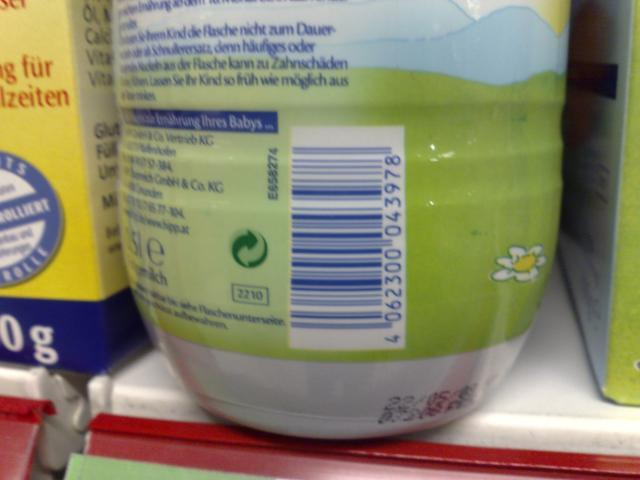Barcode: (289, 124, 406, 353)
